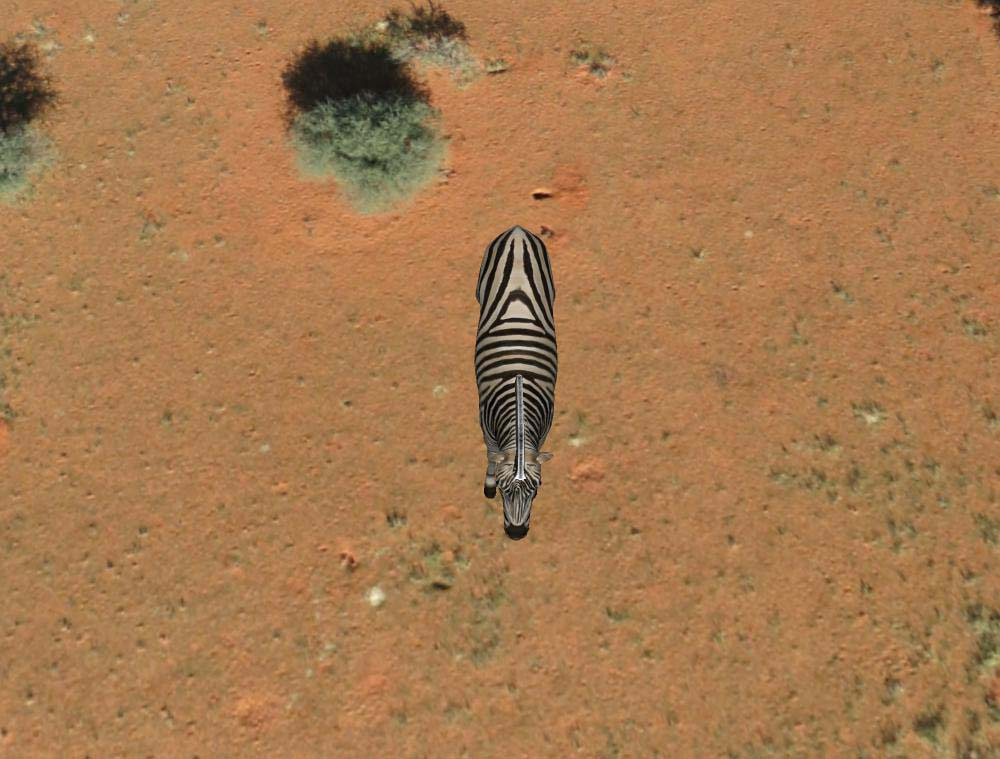zebra: (471, 226, 567, 539)
